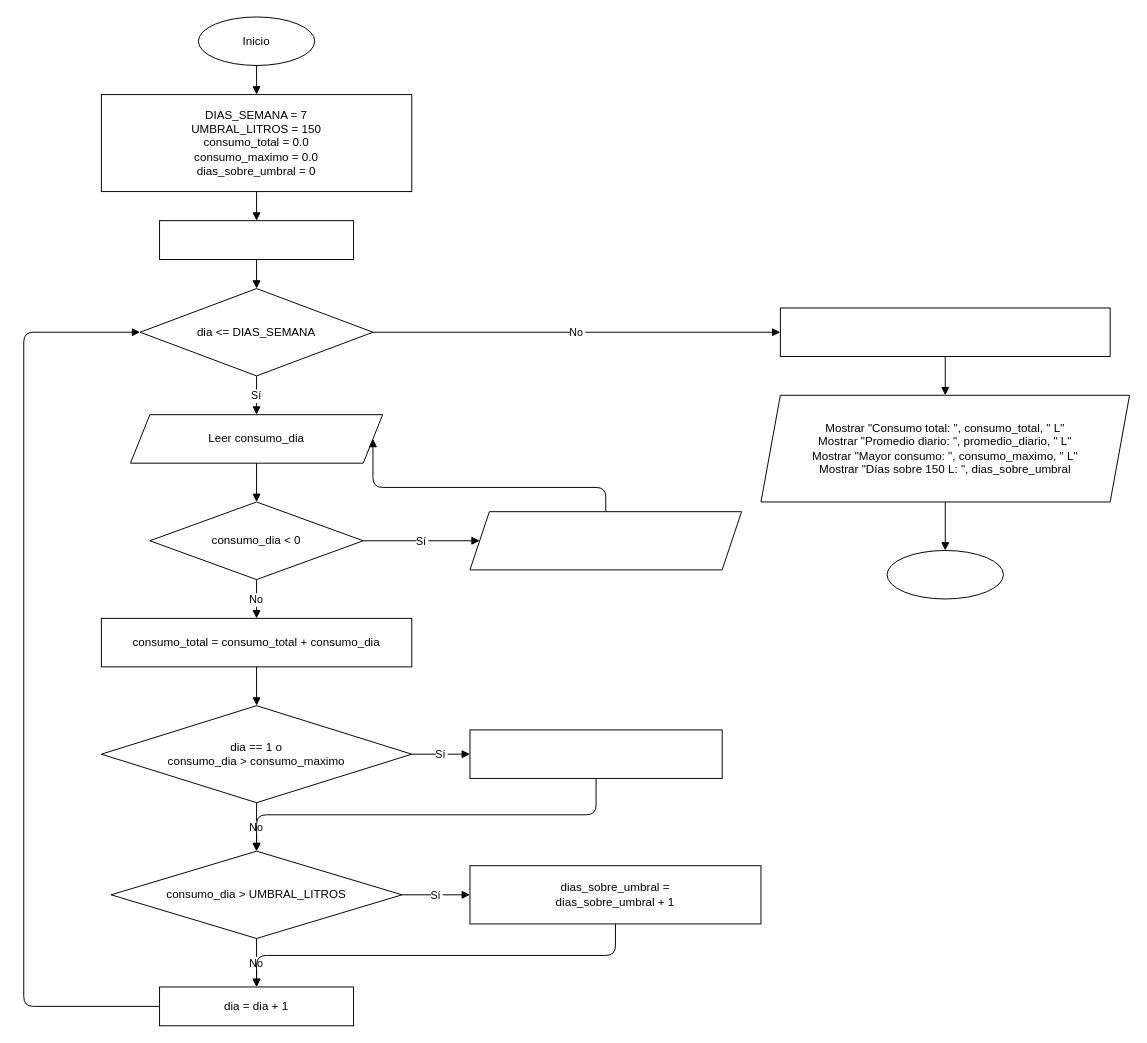
The diagram is 1147 pixels wide and 1043 high, and some of its shapes have lost their labels. Each missing label, with the box of its shape:
consumo_maximo = consumo_dia: (469, 729, 722, 778)
dia = 1: (159, 220, 354, 259)
Fin: (886, 550, 1003, 599)
Mostrar "El consumo no puede ser negativo. Intente de nuevo.": (469, 511, 742, 570)
promedio_diario = consumo_total / DIAS_SEMANA: (779, 307, 1110, 356)
